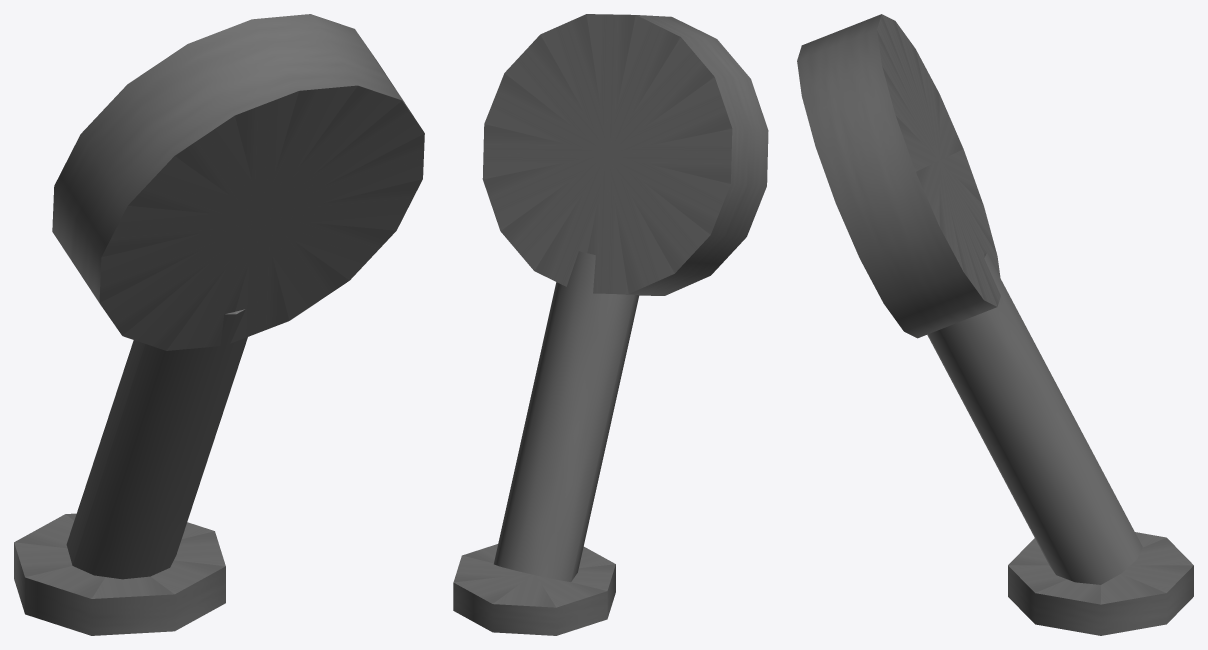
The model's file is mastarmcurve_8x2_c1_down.obj.
3 views of the same model, side by side, from view 1: azimuth 30°, elevation 25°; view 2: azimuth 150°, elevation 25°; view 3: azimuth 270°, elevation 25° (orthographic). The views are drawn at different scales.
Visible parts, largest first — view 1: mastarm_8x2_c1_down; view 2: mastarm_8x2_c1_down; view 3: mastarm_8x2_c1_down.
Boxes of the visible parts, x1,y1,x2,y2 form: mastarm_8x2_c1_down: [14, 14, 424, 635]; mastarm_8x2_c1_down: [453, 14, 768, 635]; mastarm_8x2_c1_down: [797, 14, 1193, 635].
Size of the model in its own units: 0.6775 by 1.35 by 0.8534.
